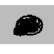correct: (11, 12, 45, 39)
